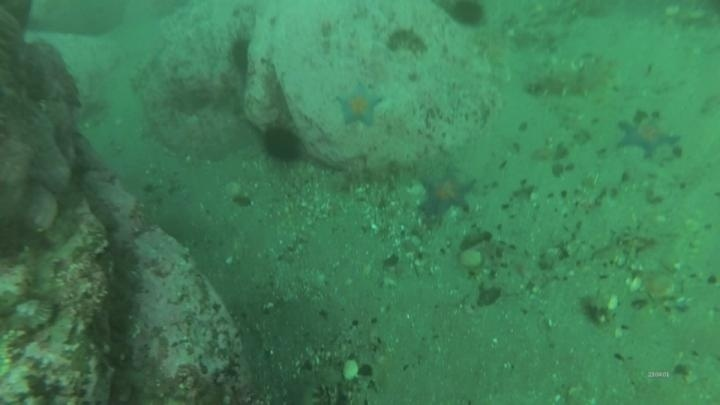echinus: (259, 122, 305, 165), (445, 1, 489, 31), (226, 34, 255, 76)
holothurian: (522, 55, 619, 102), (385, 26, 431, 60)
starfish: (615, 113, 682, 161), (417, 167, 478, 219), (333, 81, 385, 130)
